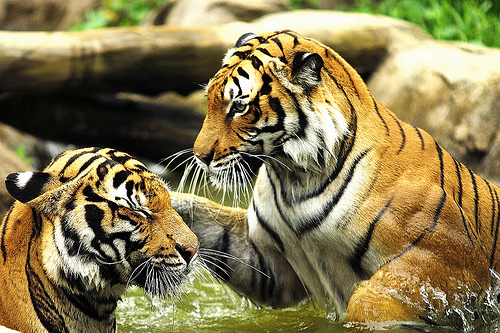Tigre: (191, 25, 471, 309), (5, 144, 192, 313)
